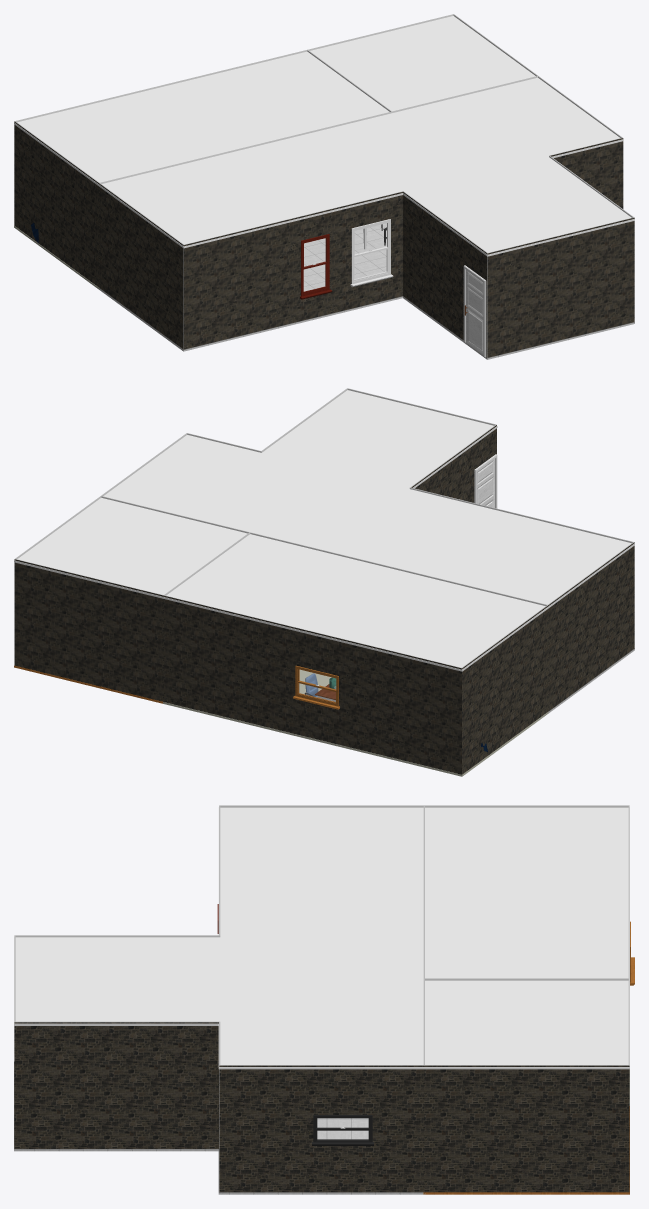
File: ProcTHOR-Train-170.glb
3 views of the same model, one above another, from view 1: azimuth 30°, elevation 25°; view 2: azimuth 150°, elevation 25°; view 3: azimuth 270°, elevation 25° (orthographic). The views are drawn at different scales.
Parts seen in each view (by area): view 1: Ceiling#room|6|c, Ceiling#room|4|c, WallInside#wall|exterior|2.10|12.61|6.30|12.61, WallInside#wall|exterior|8.40|8.40|12.61|8.40, Ceiling#room|7|c, Ceiling#room|5|c, WallInside#wall|exterior|12.61|0.00|12.61|4.20, WallInside#wall|exterior|12.61|4.20|12.61|8.40, WallInside#wall|exterior|6.30|8.40|6.30|12.61, WallInside#wall|exterior|6.30|8.40|8.40|8.40, Floor#room|6|f, WallInside#wall|exterior|0.00|8.40|2.10|8.40 (+5 smaller); view 2: Ceiling#room|6|c, WallInside#wall|exterior|4.20|0.00|12.61|0.00, Ceiling#room|4|c, WallInside#wall|exterior|0.00|0.00|4.20|0.00, Ceiling#room|5|c, Ceiling#room|7|c, WallInside#wall|exterior|12.61|4.20|12.61|8.40, WallInside#wall|exterior|12.61|0.00|12.61|4.20, WallInside#wall|exterior|6.30|8.40|6.30|12.61, Floor#room|4|f, Doorway_8, Window_Hung_48x32; view 3: Ceiling#room|6|c, Ceiling#room|4|c, WallInside#wall|exterior|0.00|0.00|0.00|4.20, WallInside#wall|exterior|2.10|8.40|2.10|12.61, WallInside#wall|exterior|0.00|4.20|0.00|8.40, Ceiling#room|5|c, Ceiling#room|7|c, Floor#room|6|f, Window_Hung_48x24, Floor#room|5|f, WallInside#wall|4|12.61|0.00|12.61|4.20, WallInside#wall|6|6.30|8.40|6.30|12.61 (+2 smaller).
Part boxes in pixels (x1=…): Ceiling#room|6|c: x1=246, y1=77, x2=634, y2=256; Ceiling#room|4|c: x1=14, y1=51, x2=391, y2=185; WallInside#wall|exterior|2.10|12.61|6.30|12.61: x1=487, y1=217, x2=634, y2=357; WallInside#wall|exterior|8.40|8.40|12.61|8.40: x1=183, y1=209, x2=330, y2=349; Ceiling#room|7|c: x1=99, y1=149, x2=329, y2=248; Ceiling#room|5|c: x1=310, y1=16, x2=535, y2=113; WallInside#wall|exterior|12.61|0.00|12.61|4.20: x1=14, y1=121, x2=99, y2=287; WallInside#wall|exterior|12.61|4.20|12.61|8.40: x1=99, y1=183, x2=183, y2=349; WallInside#wall|exterior|6.30|8.40|6.30|12.61: x1=403, y1=191, x2=487, y2=357; WallInside#wall|exterior|6.30|8.40|8.40|8.40: x1=330, y1=191, x2=403, y2=313; Floor#room|6|f: x1=303, y1=223, x2=634, y2=359; WallInside#wall|exterior|0.00|8.40|2.10|8.40: x1=549, y1=138, x2=623, y2=208; Ceiling#room|6|c: x1=103, y1=390, x2=497, y2=568; WallInside#wall|exterior|4.20|0.00|12.61|0.00: x1=163, y1=595, x2=461, y2=774; Ceiling#room|4|c: x1=163, y1=534, x2=548, y2=671; WallInside#wall|exterior|0.00|0.00|4.20|0.00: x1=14, y1=559, x2=163, y2=701; Ceiling#room|5|c: x1=14, y1=497, x2=247, y2=598; Ceiling#room|7|c: x1=401, y1=507, x2=634, y2=608; WallInside#wall|exterior|12.61|4.20|12.61|8.40: x1=548, y1=542, x2=634, y2=710; WallInside#wall|exterior|12.61|0.00|12.61|4.20: x1=462, y1=605, x2=548, y2=774; WallInside#wall|exterior|6.30|8.40|6.30|12.61: x1=411, y1=424, x2=496, y2=502; Floor#room|4|f: x1=163, y1=669, x2=548, y2=776; Doorway_8: x1=474, y1=454, x2=497, y2=508; Window_Hung_48x32: x1=293, y1=665, x2=339, y2=709; Ceiling#room|6|c: x1=14, y1=893, x2=425, y2=1069; Ceiling#room|4|c: x1=423, y1=807, x2=629, y2=980; WallInside#wall|exterior|0.00|0.00|0.00|4.20: x1=424, y1=1065, x2=629, y2=1192; WallInside#wall|exterior|2.10|8.40|2.10|12.61: x1=14, y1=1022, x2=219, y2=1148; WallInside#wall|exterior|0.00|4.20|0.00|8.40: x1=219, y1=1065, x2=424, y2=1192; Ceiling#room|5|c: x1=423, y1=980, x2=629, y2=1069; Ceiling#room|7|c: x1=218, y1=807, x2=425, y2=894; Floor#room|6|f: x1=14, y1=1062, x2=425, y2=1194; Window_Hung_48x24: x1=312, y1=1115, x2=373, y2=1145; Floor#room|5|f: x1=423, y1=1106, x2=629, y2=1194; WallInside#wall|4|12.61|0.00|12.61|4.20: x1=424, y1=805, x2=629, y2=807; WallInside#wall|6|6.30|8.40|6.30|12.61: x1=15, y1=935, x2=219, y2=937.
Size of what is drawn, in the model's own units: 12.82 by 2.92 by 12.75.
Materials: 331 (136 with a texture image).
